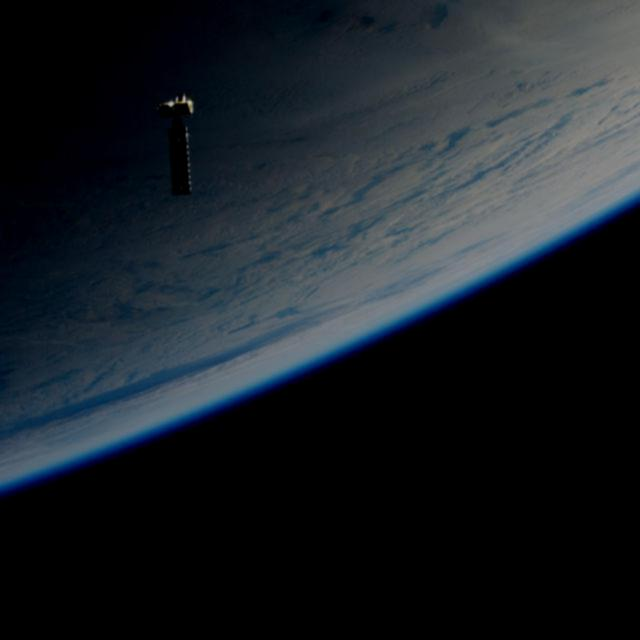satellite: (150, 86, 205, 201)
